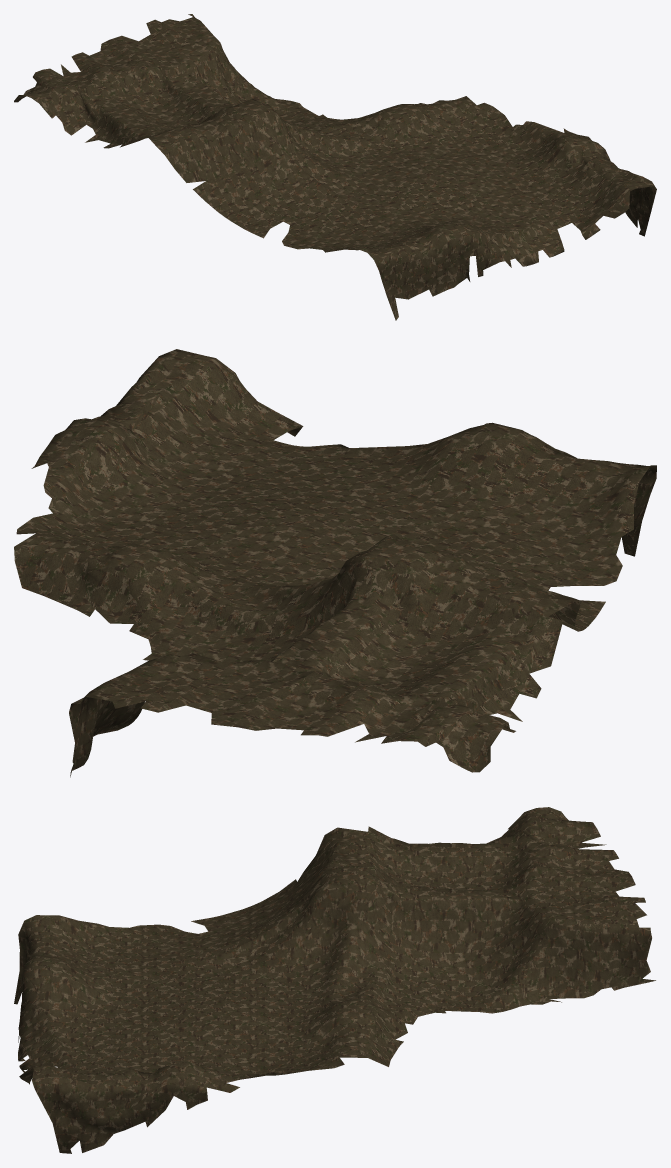
The model's file is SM_Prop_TileCamouflageCover.fbx.
3 views of the same model, one above another, from view 1: azimuth 30°, elevation 25°; view 2: azimuth 150°, elevation 25°; view 3: azimuth 270°, elevation 25° (orthographic). The views are drawn at different scales.
Parts seen in each view (by area): view 1: SM_Prop_TileCamouflageCover_LOD0; view 2: SM_Prop_TileCamouflageCover_LOD0; view 3: SM_Prop_TileCamouflageCover_LOD0.
Boxes of the visible parts, x1=… form: SM_Prop_TileCamouflageCover_LOD0: x1=14, y1=14, x2=656, y2=320; SM_Prop_TileCamouflageCover_LOD0: x1=14, y1=349, x2=656, y2=777; SM_Prop_TileCamouflageCover_LOD0: x1=14, y1=807, x2=655, y2=1153.
Size of the model in its own units: 1061 by 1189 by 262.
Materials: 1 (1 with a texture image).
